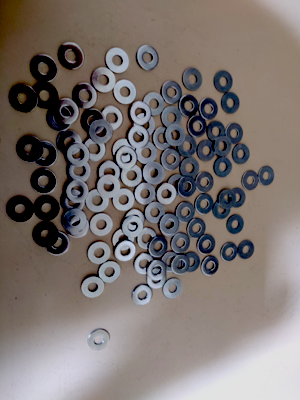circle: (10, 85, 38, 112), (58, 43, 85, 70), (31, 55, 58, 82), (17, 136, 44, 162), (54, 98, 80, 125), (32, 83, 59, 109), (32, 141, 58, 167), (91, 68, 116, 94), (47, 106, 72, 132), (73, 83, 98, 109), (105, 47, 129, 74), (8, 198, 34, 222), (31, 170, 57, 194), (35, 197, 60, 221), (62, 209, 87, 233), (113, 80, 137, 105), (89, 119, 113, 144), (82, 109, 106, 134), (66, 142, 90, 167), (57, 131, 82, 155), (137, 45, 160, 71), (85, 189, 109, 213), (34, 223, 58, 247), (45, 231, 69, 255), (67, 160, 91, 184), (112, 139, 137, 162), (87, 242, 111, 265), (129, 102, 152, 126), (65, 180, 89, 203), (61, 189, 85, 212), (90, 214, 113, 237), (97, 175, 120, 198), (128, 126, 151, 149), (67, 215, 89, 239), (84, 138, 106, 162), (102, 106, 123, 131), (143, 162, 165, 185), (135, 142, 157, 165), (142, 93, 164, 116), (81, 277, 105, 298), (88, 329, 110, 351), (99, 261, 121, 283), (122, 216, 144, 238), (112, 189, 134, 211), (121, 165, 143, 187), (112, 230, 135, 251), (99, 162, 120, 185), (162, 81, 183, 104), (153, 127, 174, 150), (156, 183, 177, 205), (135, 183, 156, 205), (165, 125, 186, 147), (183, 68, 203, 91), (132, 285, 153, 306), (116, 241, 137, 262), (187, 116, 208, 137), (197, 140, 217, 162), (175, 202, 195, 224), (161, 149, 181, 171), (171, 233, 191, 254), (163, 278, 183, 299), (147, 260, 167, 281), (148, 237, 168, 258), (125, 210, 145, 231), (145, 203, 165, 224), (207, 121, 227, 142), (133, 254, 154, 274), (137, 228, 157, 249), (162, 107, 182, 128), (214, 71, 233, 93), (199, 98, 218, 120), (180, 95, 199, 117), (148, 269, 168, 289), (161, 252, 180, 273), (195, 194, 214, 215), (178, 177, 197, 198), (178, 136, 197, 157), (214, 135, 232, 157), (222, 92, 240, 114), (172, 255, 191, 275), (168, 175, 187, 195), (160, 215, 180, 234), (161, 217, 180, 237), (180, 158, 200, 177), (188, 218, 206, 239), (196, 172, 214, 193), (201, 256, 219, 276), (227, 215, 245, 235), (198, 235, 216, 255), (182, 253, 200, 273), (228, 188, 246, 208), (218, 189, 236, 209), (214, 158, 232, 178), (232, 144, 250, 164), (226, 124, 243, 145), (221, 242, 238, 262), (214, 200, 231, 220), (242, 172, 259, 191), (238, 241, 255, 260), (260, 166, 275, 186)
